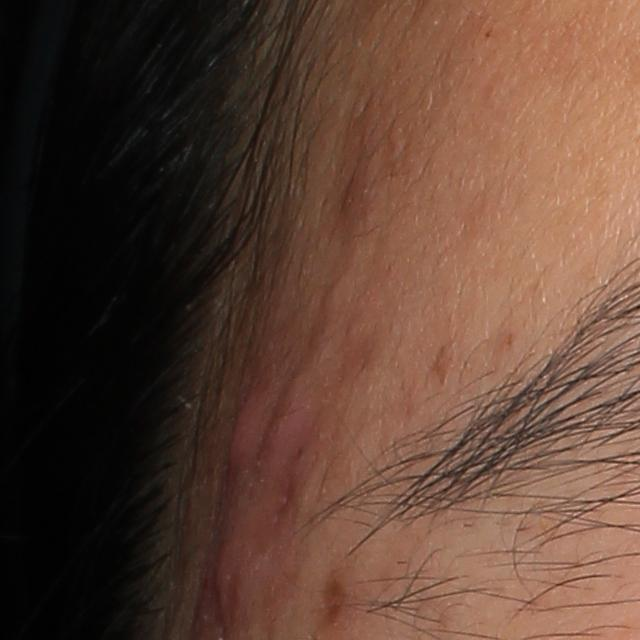papule: (256, 362, 323, 478), (213, 384, 263, 491), (203, 530, 253, 615)
